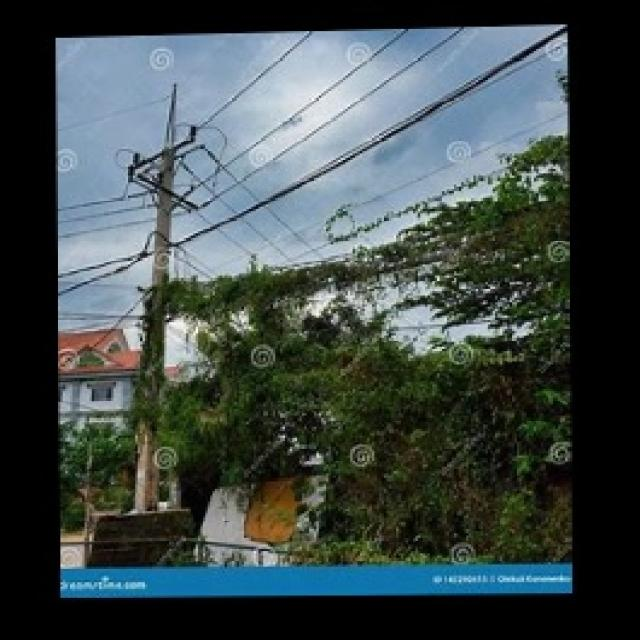critical vegetation: (142, 232, 571, 380)
